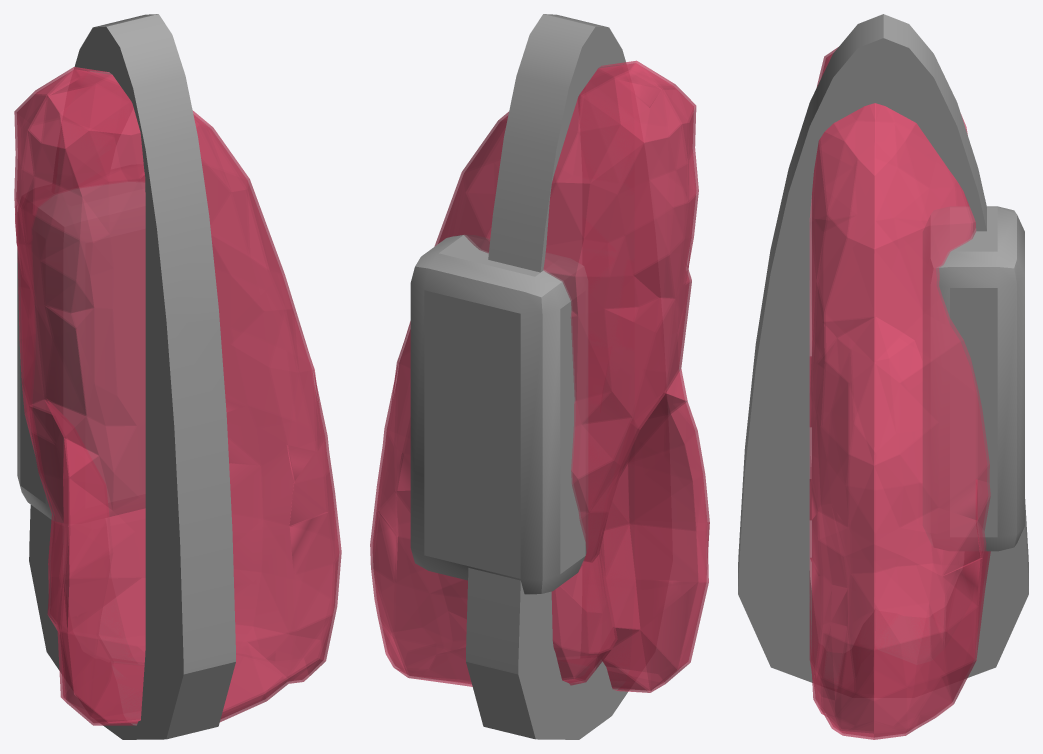
File: Mech_Long_L.fbx
The picture shows the model from 3 angles, left to right: view 1: azimuth 30°, elevation 25°; view 2: azimuth 150°, elevation 25°; view 3: azimuth 270°, elevation 25°; orthographic projection. The views are drawn at different scales.
Visible parts, largest first — view 1: polySurface1_2, polySurface1, Boole_1, Cube; view 2: polySurface1_2, polySurface1, Cube, Boole_1; view 3: polySurface1_2, polySurface1, Boole_1, Cube.
Boxes of the visible parts, <box> form: polySurface1_2: <box>14,67,341,725</box>; polySurface1: <box>17,69,338,722</box>; Boole_1: <box>29,14,235,739</box>; Cube: <box>17,182,145,522</box>; polySurface1_2: <box>370,60,709,692</box>; polySurface1: <box>373,63,707,690</box>; Cube: <box>410,234,587,594</box>; Boole_1: <box>466,14,628,739</box>; polySurface1_2: <box>809,47,990,739</box>; polySurface1: <box>810,53,988,737</box>; Boole_1: <box>738,14,1028,682</box>; Cube: <box>923,206,1024,551</box>.
Size of the model in its own units: 6.03 by 12.8 by 5.12.
